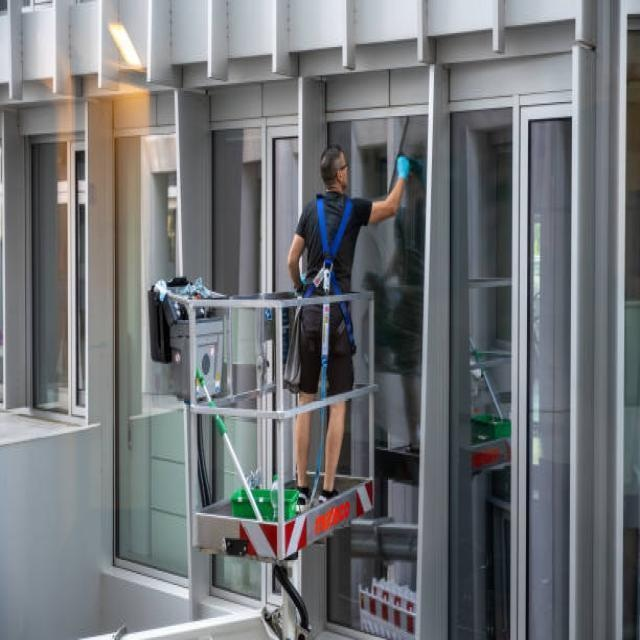Arnes_seguridad: (296, 192, 356, 355)
